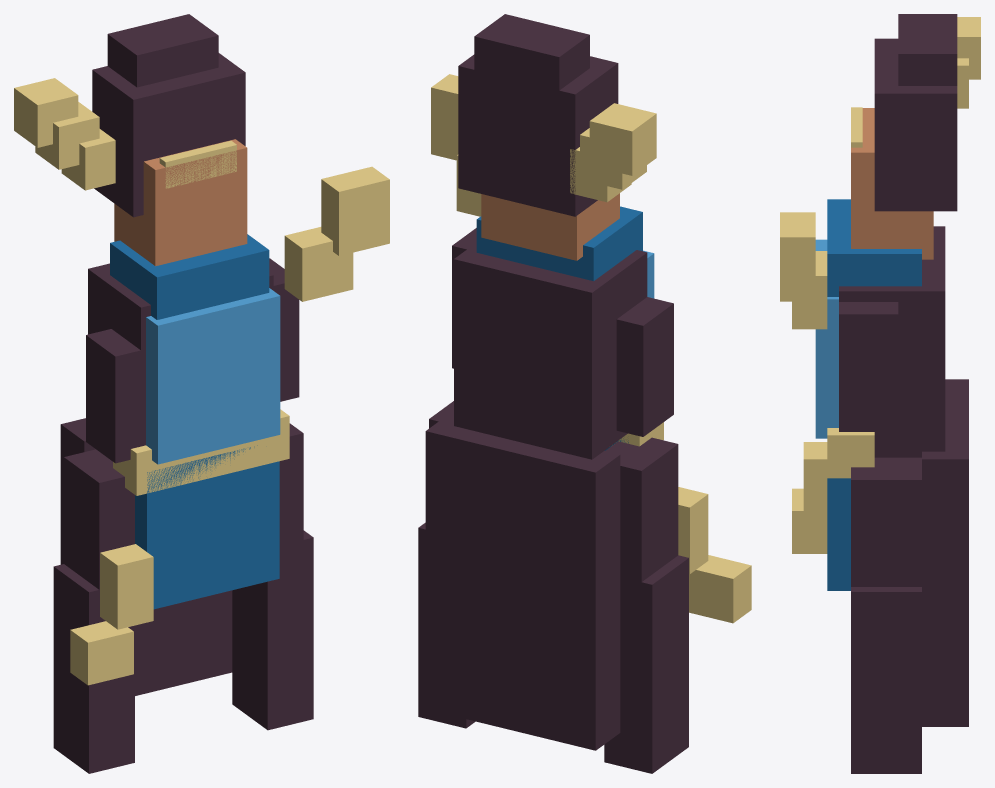
Rendered from rogue.gltf.
The picture shows the model from 3 angles, left to right: view 1: azimuth 30°, elevation 25°; view 2: azimuth 150°, elevation 25°; view 3: azimuth 270°, elevation 25°; orthographic projection. The views are drawn at different scales.
Visible parts, largest first — view 1: 12_scale_thief_s_breast, 07_scale_kilt, 19_hood, 01_right_shin, 15_face, 00_left_shin, 02_scale_cloak, 13_collar, 05_left_thigh, 09_left_arm, 22_hood_crown, 08_horn_belt (+11 smaller); view 2: 02_scale_cloak, 10_torso, 19_hood, 00_left_shin, 22_hood_crown, 05_left_thigh, 09_left_arm, 15_face, 13_collar, 20_crest_far_spine, 03_wyrm_fang_low_blade, 04_wyrm_fang_low_hilt (+6 smaller); view 3: 02_scale_cloak, 01_right_shin, 19_hood, 10_torso, 06_right_thigh, 11_right_arm, 15_face, 13_collar, 22_hood_crown, 18_wyrm_fang_high_blade, 12_scale_thief_s_breast, 07_scale_kilt (+7 smaller).
Boxes of the visible parts, x1,y1,x2,y2 form: 12_scale_thief_s_breast: (146, 288, 280, 464); 07_scale_kilt: (135, 445, 279, 609); 19_hood: (92, 53, 245, 217); 01_right_shin: (232, 530, 313, 730); 15_face: (114, 139, 247, 266); 00_left_shin: (53, 564, 134, 773); 02_scale_cloak: (60, 418, 232, 695); 13_collar: (110, 234, 269, 319); 05_left_thigh: (64, 449, 134, 600); 09_left_arm: (86, 329, 140, 463); 22_hood_crown: (107, 14, 218, 87); 08_horn_belt: (113, 409, 289, 495); 02_scale_cloak: (425, 413, 620, 750); 10_torso: (454, 243, 647, 459); 19_hood: (458, 54, 618, 216); 00_left_shin: (604, 555, 688, 773); 22_hood_crown: (474, 14, 589, 122); 05_left_thigh: (605, 437, 678, 581); 09_left_arm: (616, 297, 673, 436); 15_face: (481, 193, 619, 260); 13_collar: (476, 206, 642, 281); 20_crest_far_spine: (589, 103, 656, 175); 03_wyrm_fang_low_blade: (689, 555, 751, 623); 04_wyrm_fang_low_hilt: (678, 487, 708, 574); 02_scale_cloak: (922, 379, 968, 726); 01_right_shin: (851, 587, 921, 773); 19_hood: (874, 38, 957, 211); 10_torso: (839, 226, 945, 451); 06_right_thigh: (851, 457, 921, 586); 11_right_arm: (839, 302, 898, 431); 15_face: (851, 108, 933, 259); 13_collar: (827, 199, 921, 296); 22_hood_crown: (898, 14, 957, 85); 18_wyrm_fang_high_blade: (780, 212, 815, 301); 12_scale_thief_s_breast: (815, 239, 838, 438); 07_scale_kilt: (827, 478, 850, 590).
Bounding box in the file's own units: 0.9062 × 2 × 0.5312.
